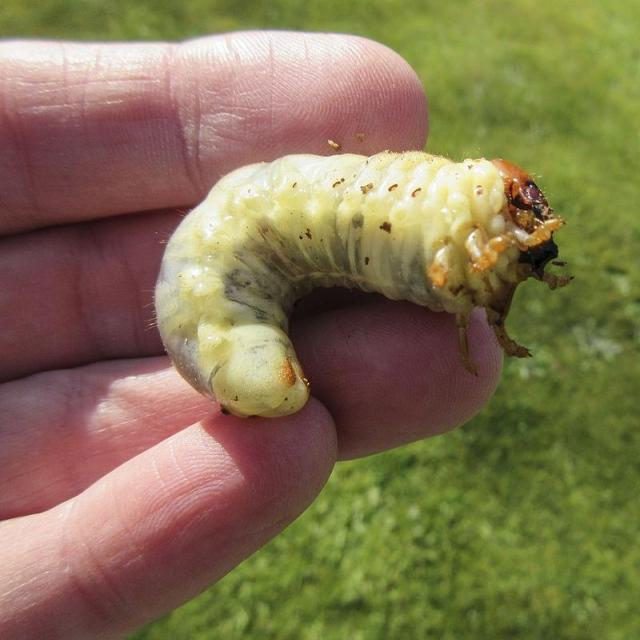Grub-Adult-: (137, 125, 584, 428)
